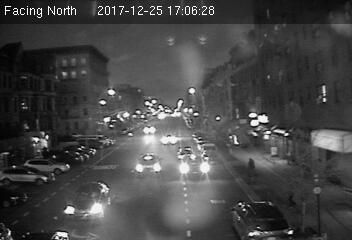car: (232, 198, 294, 238), (63, 181, 109, 223), (180, 157, 210, 179), (135, 154, 161, 176), (177, 145, 194, 159), (160, 134, 179, 144)
